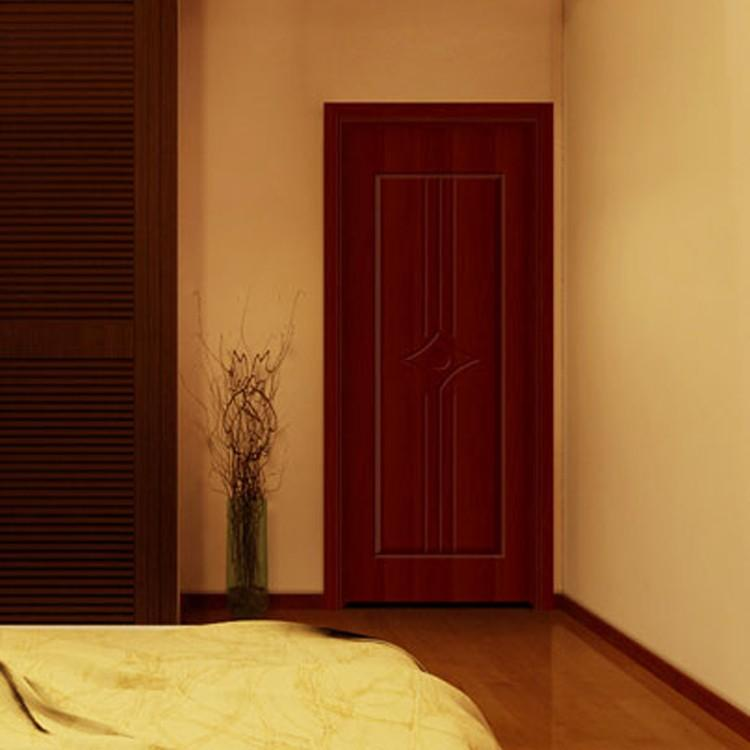door: (345, 129, 539, 603)
